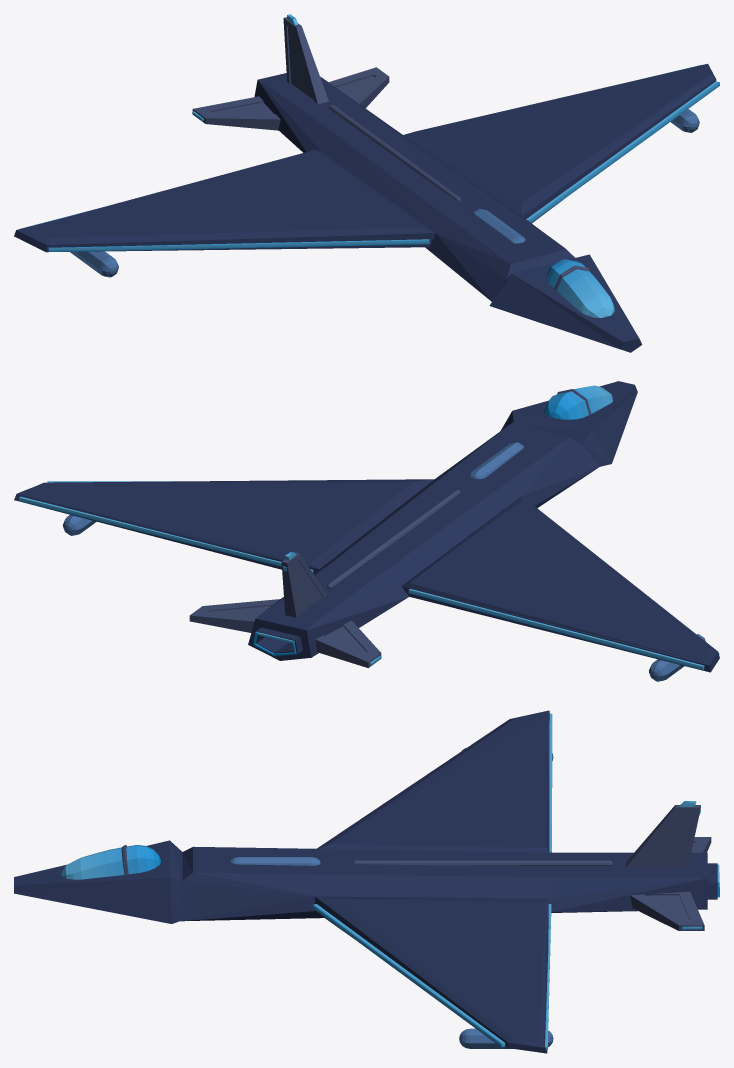
The model's file is 1c71e45e-fc1c-49c9-8cd4-917900b1cfd8.glb.
The picture shows the model from 3 angles, top to bottom: view 1: azimuth 30°, elevation 25°; view 2: azimuth 150°, elevation 25°; view 3: azimuth 270°, elevation 25°; orthographic projection.
Parts seen in each view (by area): view 1: Node; view 2: Node; view 3: Node.
Part boxes in pixels (x1,y1,x2,y2): Node: (14,14,719,352); Node: (14,381,719,681); Node: (14,710,719,1053).
Bounding box in the file's own units: 946 × 141 × 833.
Materials: 1 (1 with a texture image).
